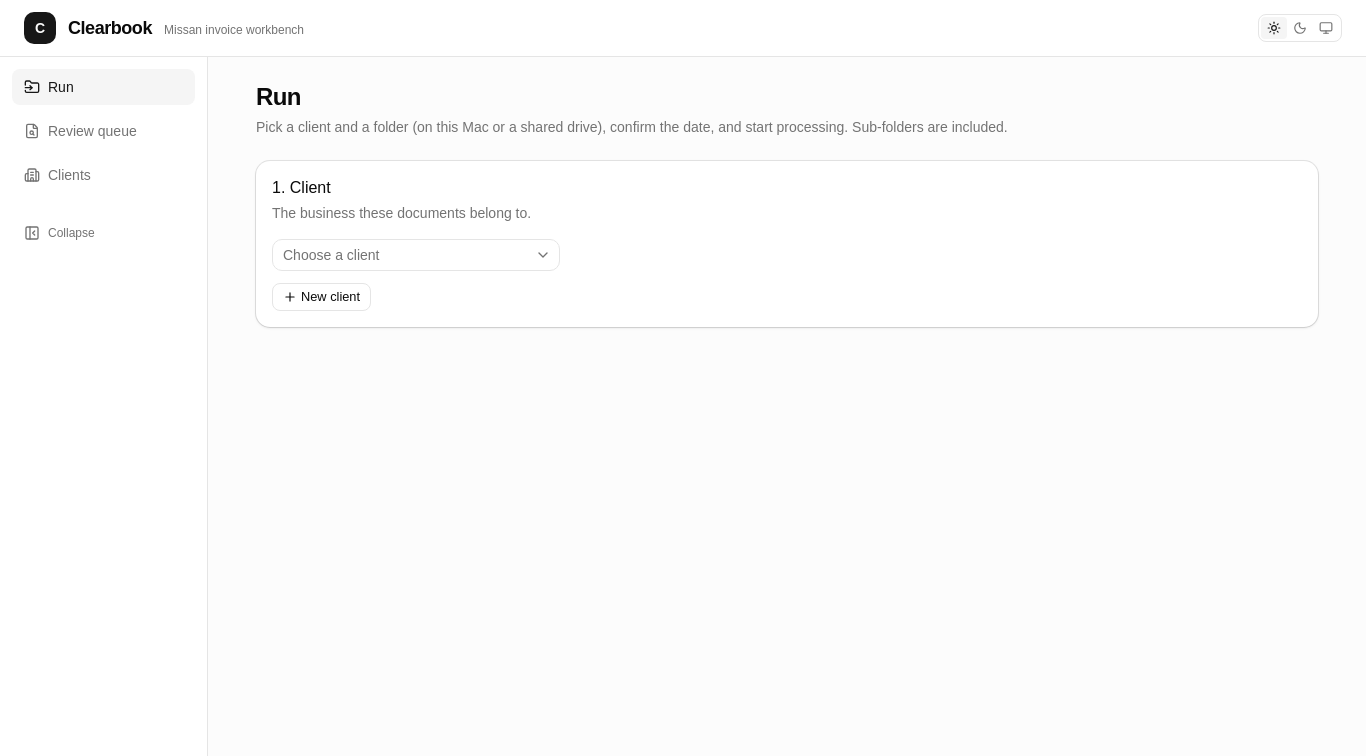
Scenario: run screen › opens the client's own folder, browses into a day folder and takes its date
This screenshot has width=1366, height=756.
Click the dropdown labelled "client" at (331, 255), box [272,239,560,271]
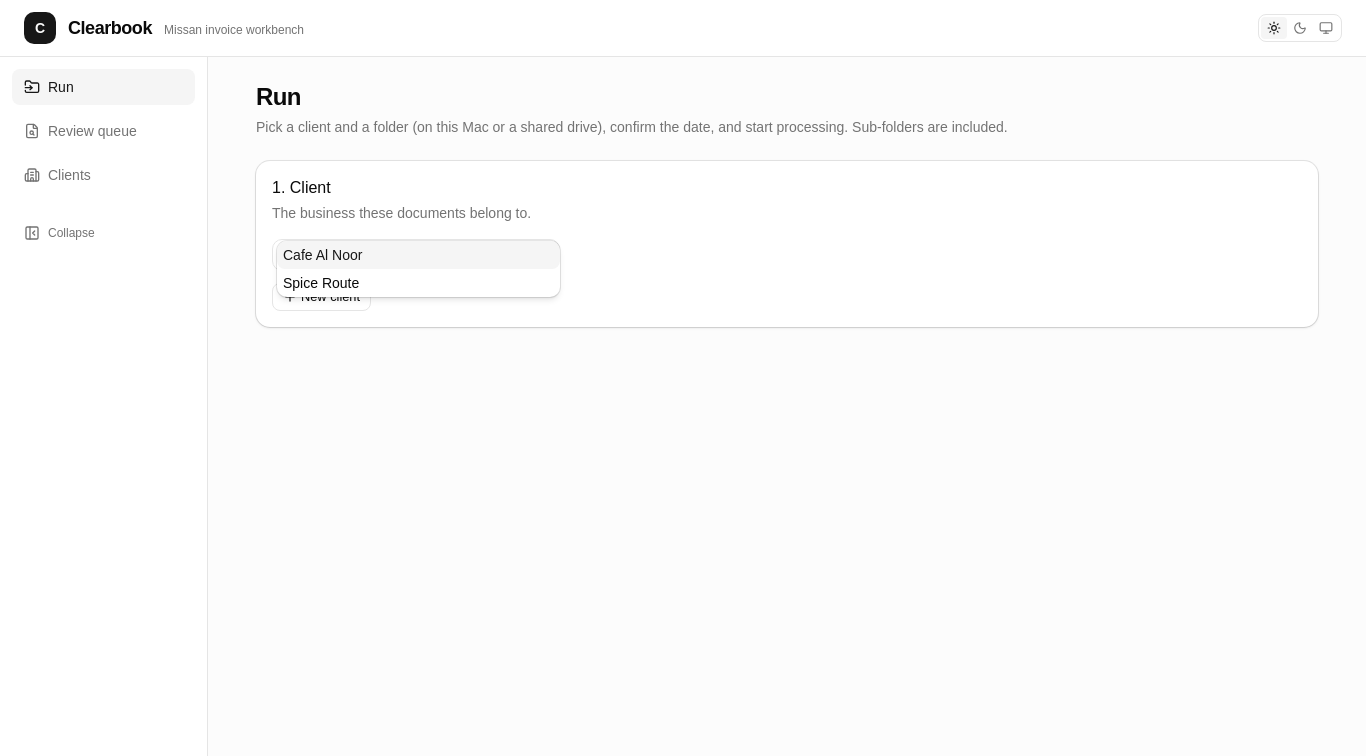
Click the option "Cafe Al Noor" at (323, 255), box [277,241,560,269]
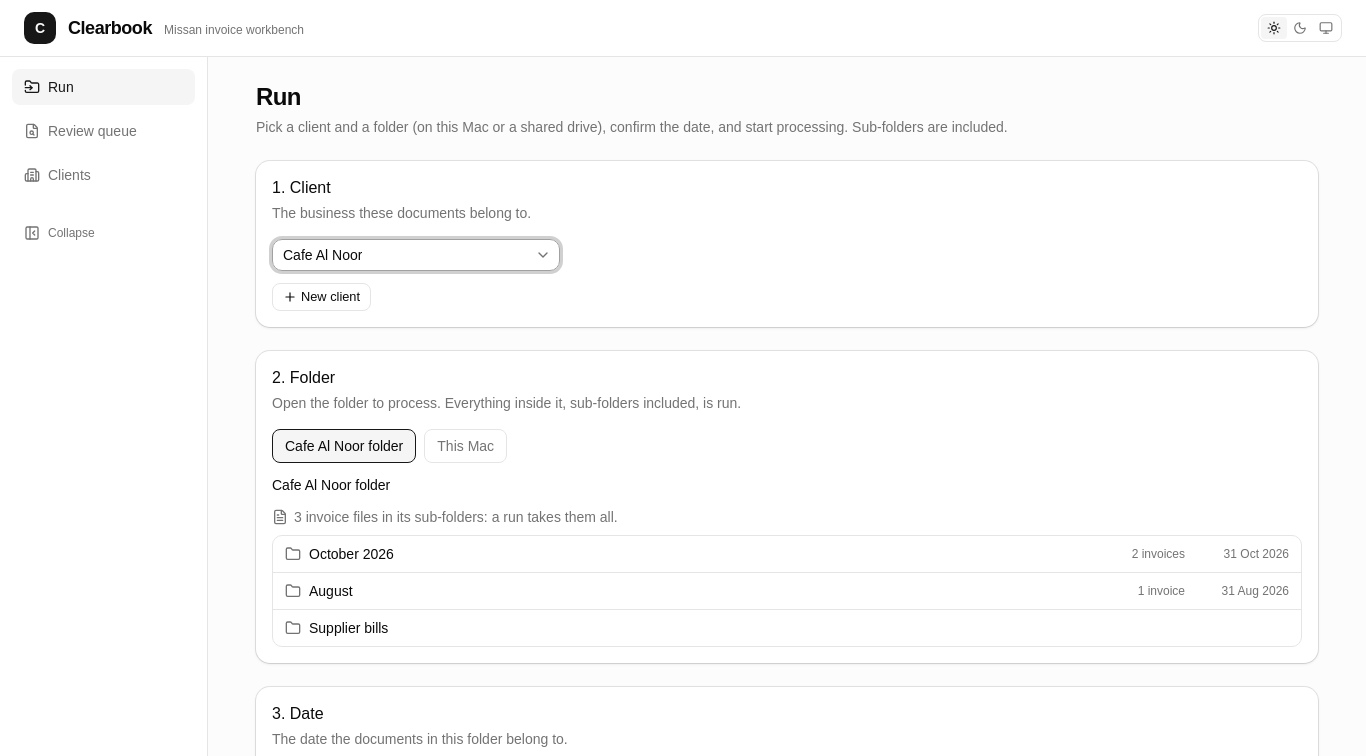
Click the button "October 2026 2 invoices 31 Oct 2026" at (351, 554), box [273,536,1301,572]
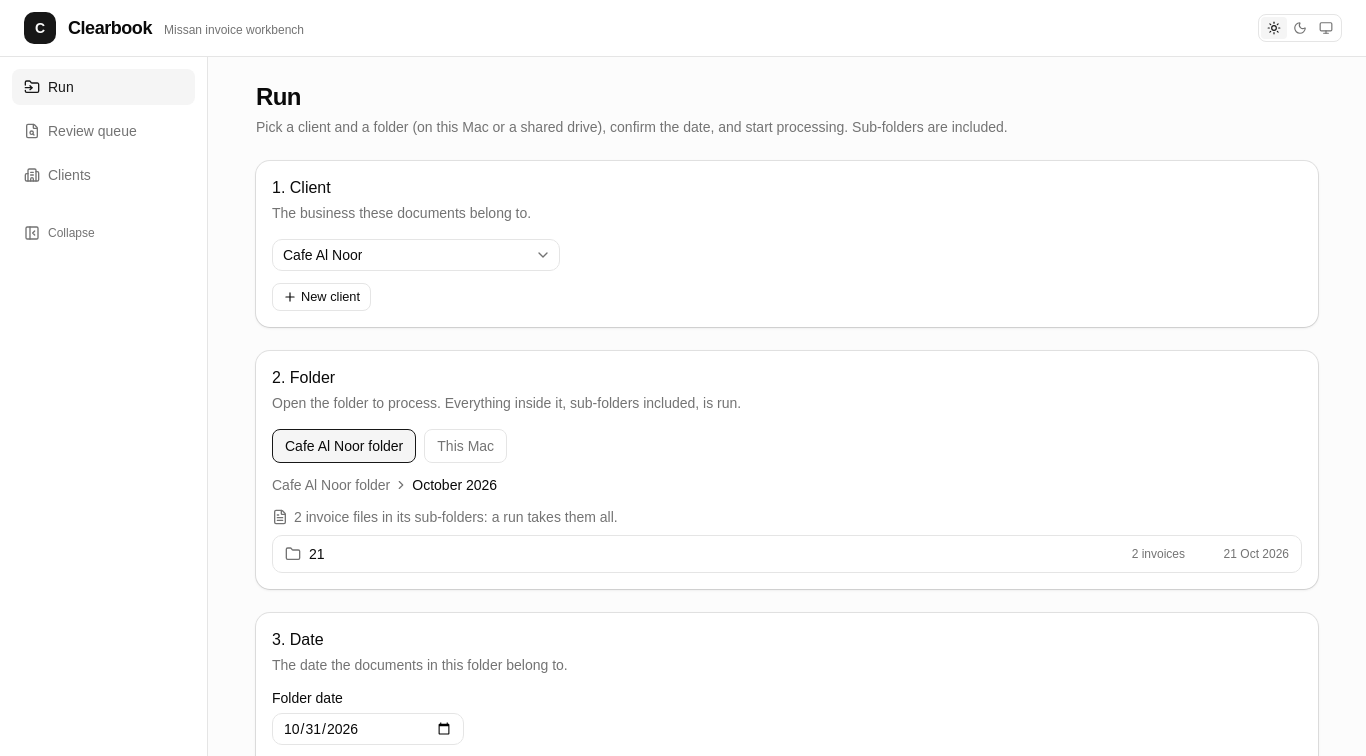
Click the button "21 2 invoices 21 Oct 2026" at (1158, 554), box [273,536,1301,572]
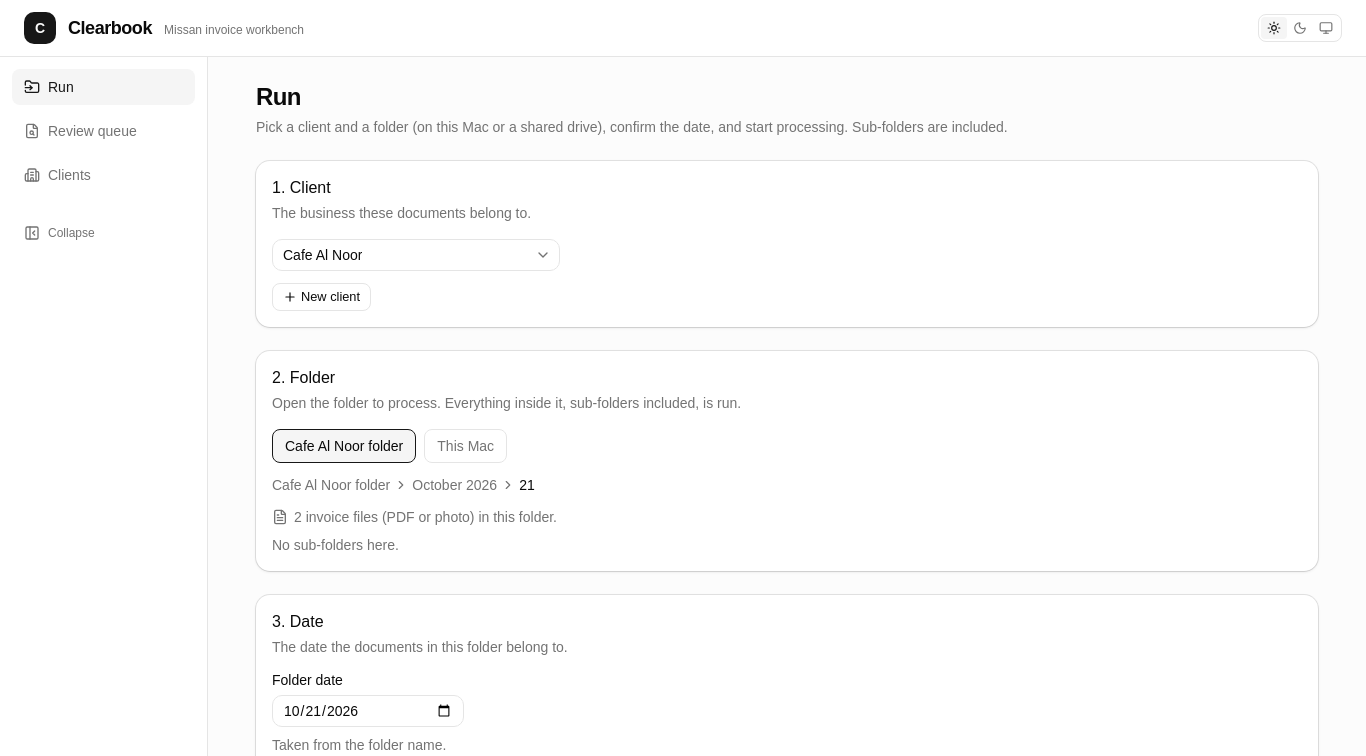
Check: the text with test id "date-hint" reads "Taken from the folder name.", box [272,737,446,753]
Check: the element with test id "file-count" shows "2 invoice files", box [294,509,557,525]
Check: the date field labelled "Folder date" holds "2026-10-21", box [272,695,464,727]
